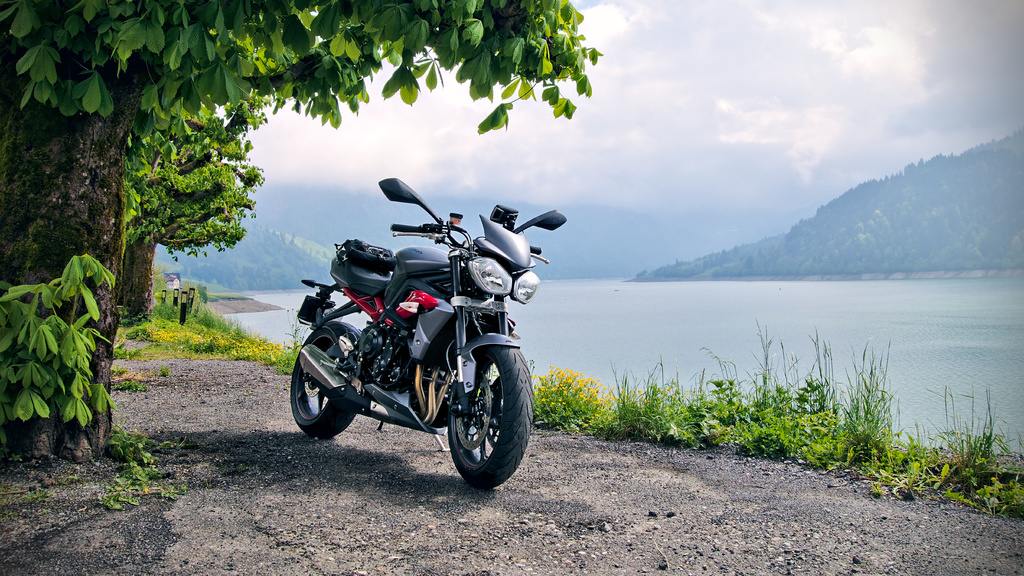Tree: (0, 0, 599, 465)
